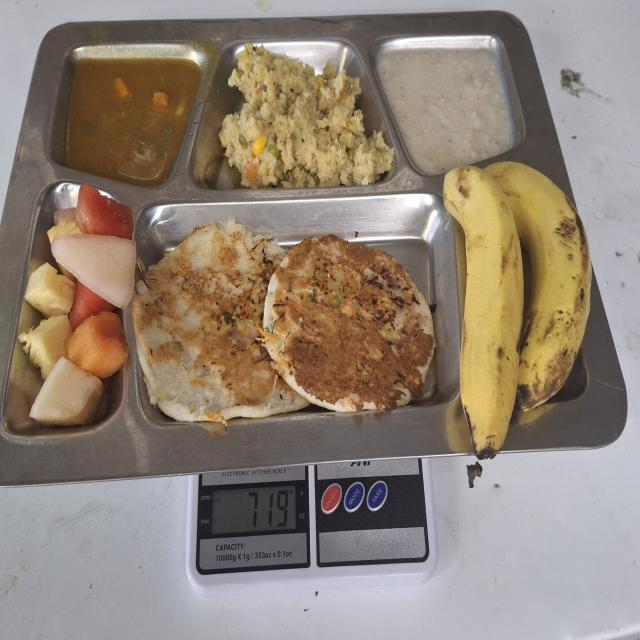Banana: (438, 154, 596, 457)
Mix Fruit: (17, 184, 138, 434)
Porridge: (373, 27, 530, 168)
Sambhar: (61, 53, 201, 188)
Upma: (216, 38, 398, 187)
Uttapam: (132, 217, 438, 428)
